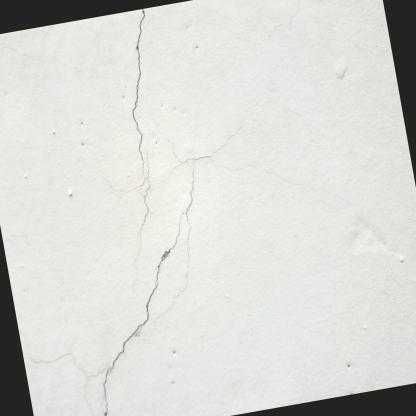crack: (101, 218, 184, 416), (130, 8, 147, 178)
